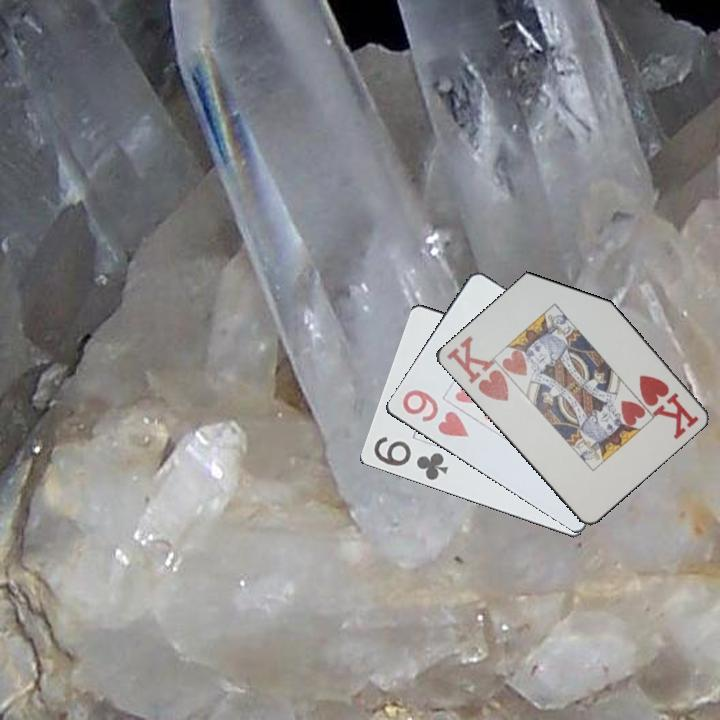6c: (370, 433, 451, 483)
9h: (398, 386, 472, 443)
Kh: (442, 333, 512, 405), (635, 371, 702, 440)
